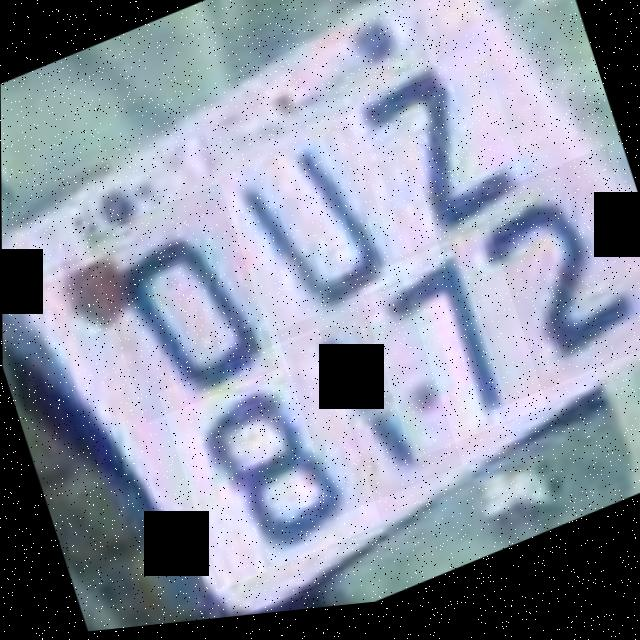1: (275, 283, 462, 528)
2: (428, 156, 640, 426)
7: (354, 230, 546, 473)
8: (157, 328, 381, 599)
O: (85, 182, 279, 430)
U: (209, 107, 418, 361)
Z: (342, 48, 532, 270)
